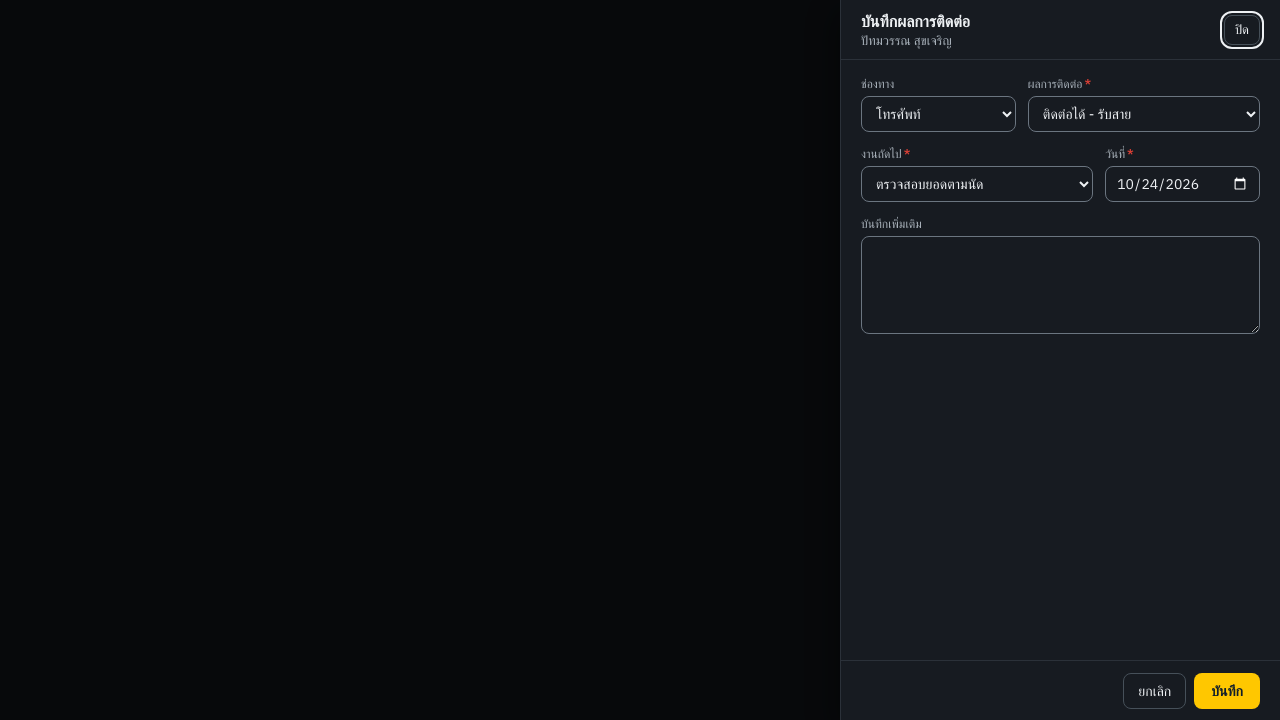
Test: the contact drawer promise fields (F01, F01c) › offers the renegotiation when the customer already holds an open promise
The image size is (1280, 720).
Later steps or results of the test are not shown.
Select "LINE" in the dropdown labelled "ช่องทาง": (938, 114) [861,96,1016,132]
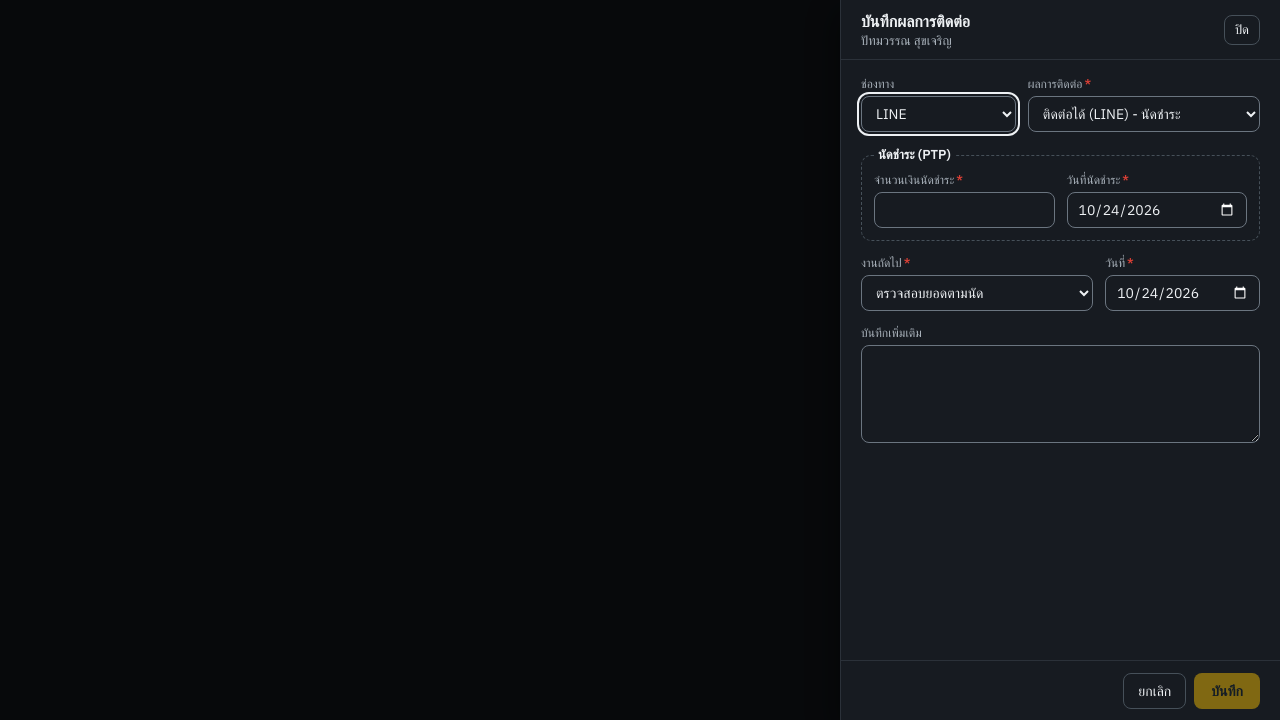
Select "ติดต่อได้ (LINE) - นัดชำระ" in the dropdown labelled "ผลการติดต่อ*": (1144, 114) [1028,96,1260,132]
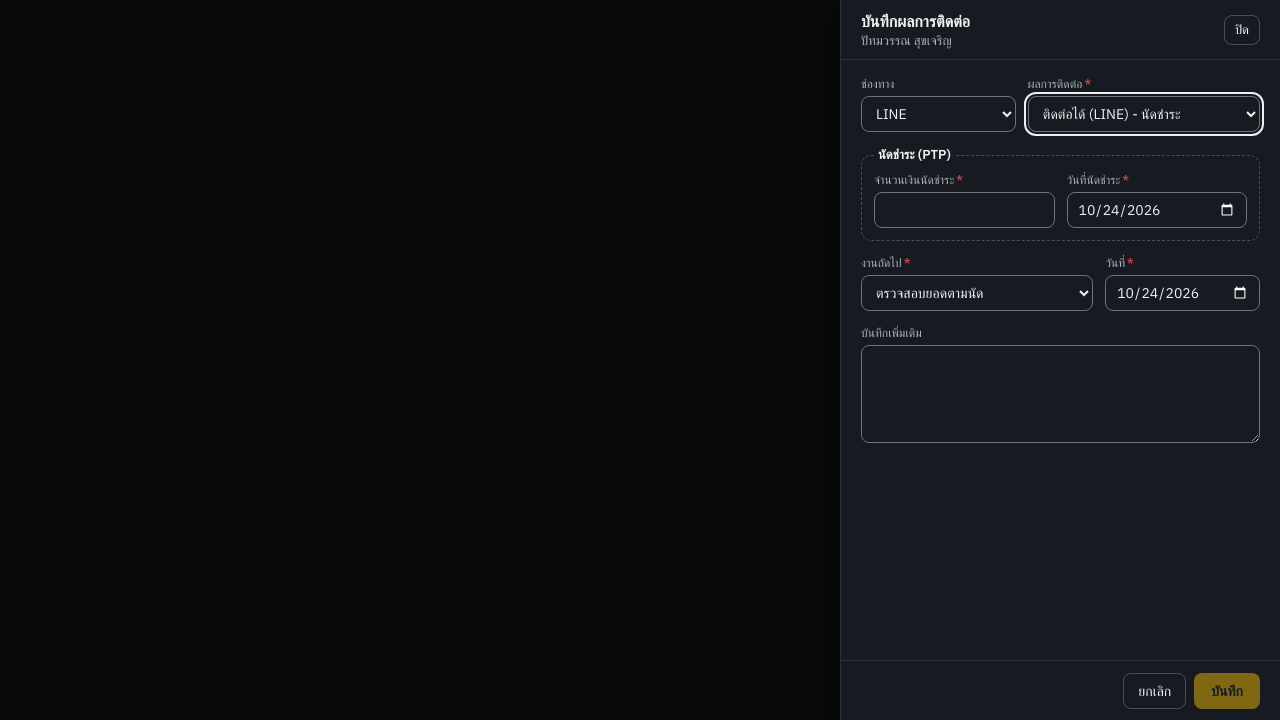
In the field labelled "จำนวนเงินนัดชำระ*": (964, 210) [874,192,1054,228], type "1500"
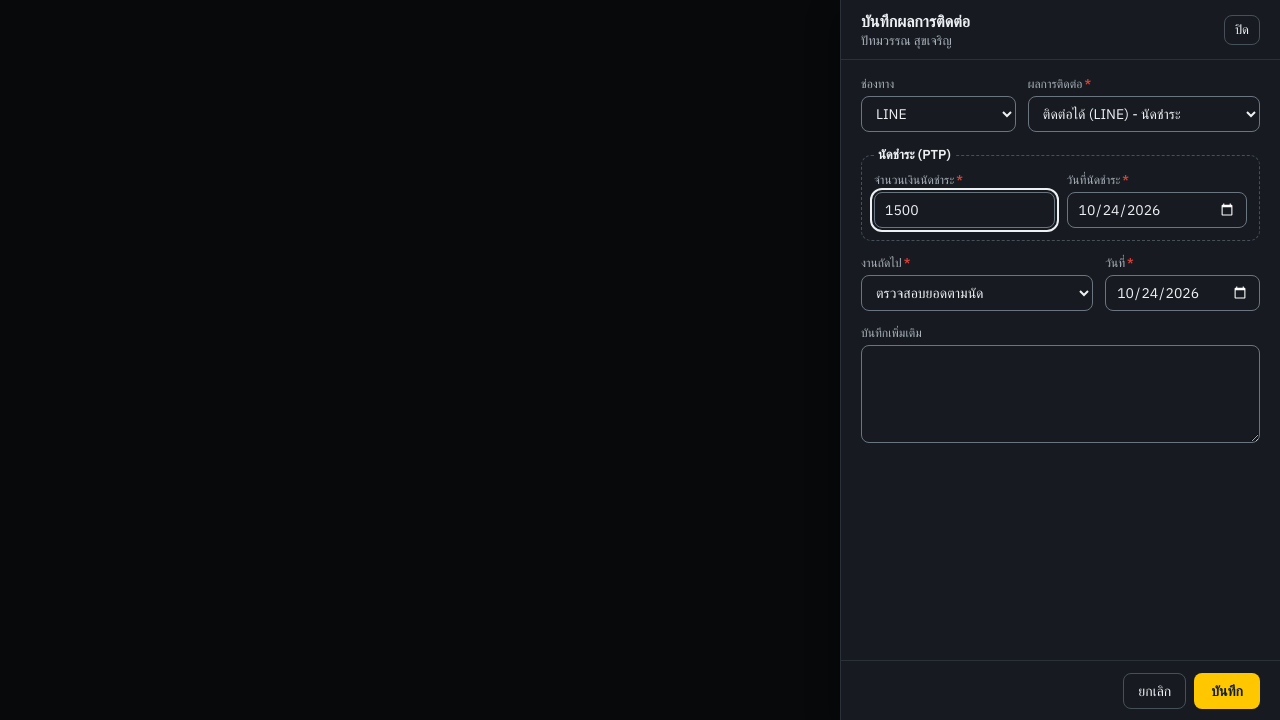
Click the button "บันทึก": click(1227, 690) [1194,672,1260,708]
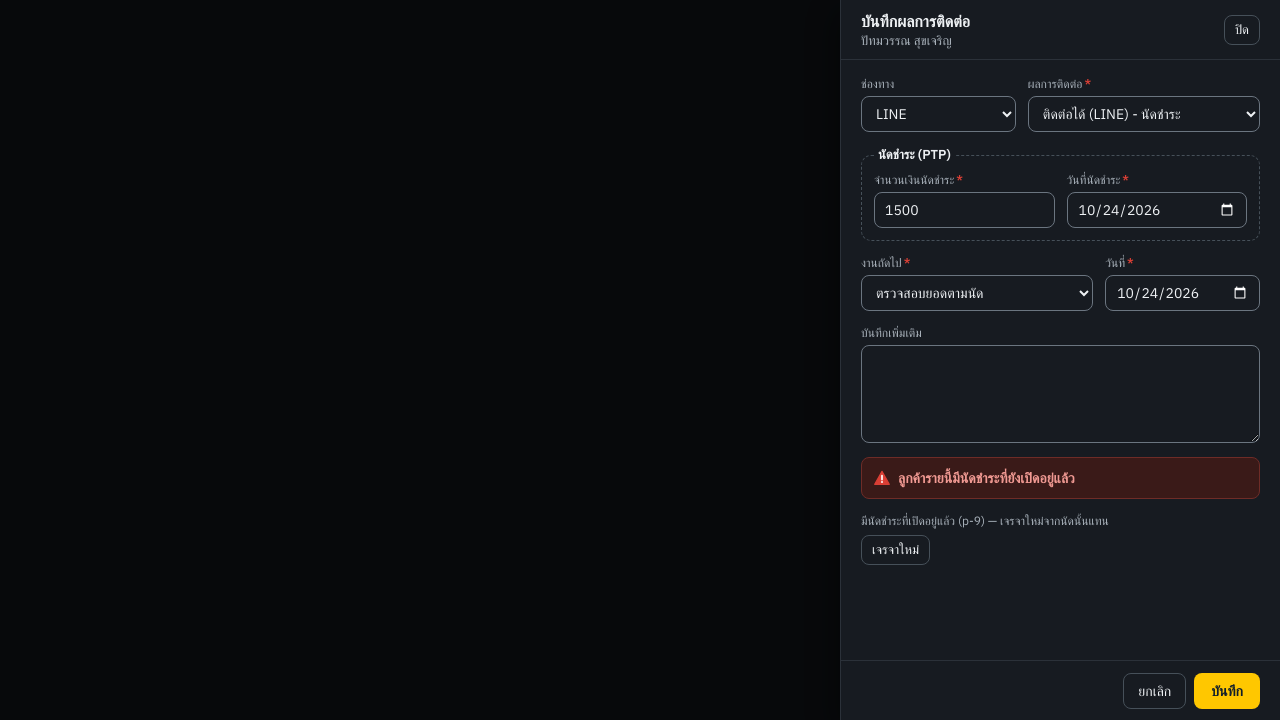
Expected: the text "ลูกค้ารายนี้มีนัดชำระที่ยังเปิดอยู่แล้ว" is shown, [898,469,1075,487]
